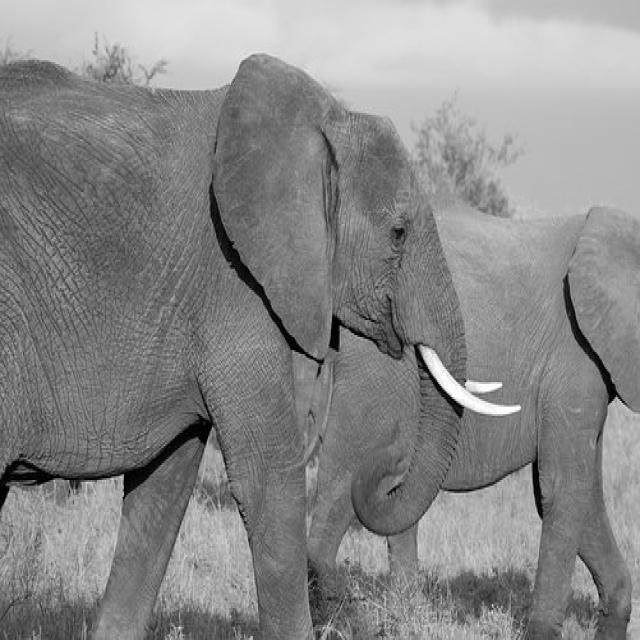Elephant: (7, 34, 460, 640)
